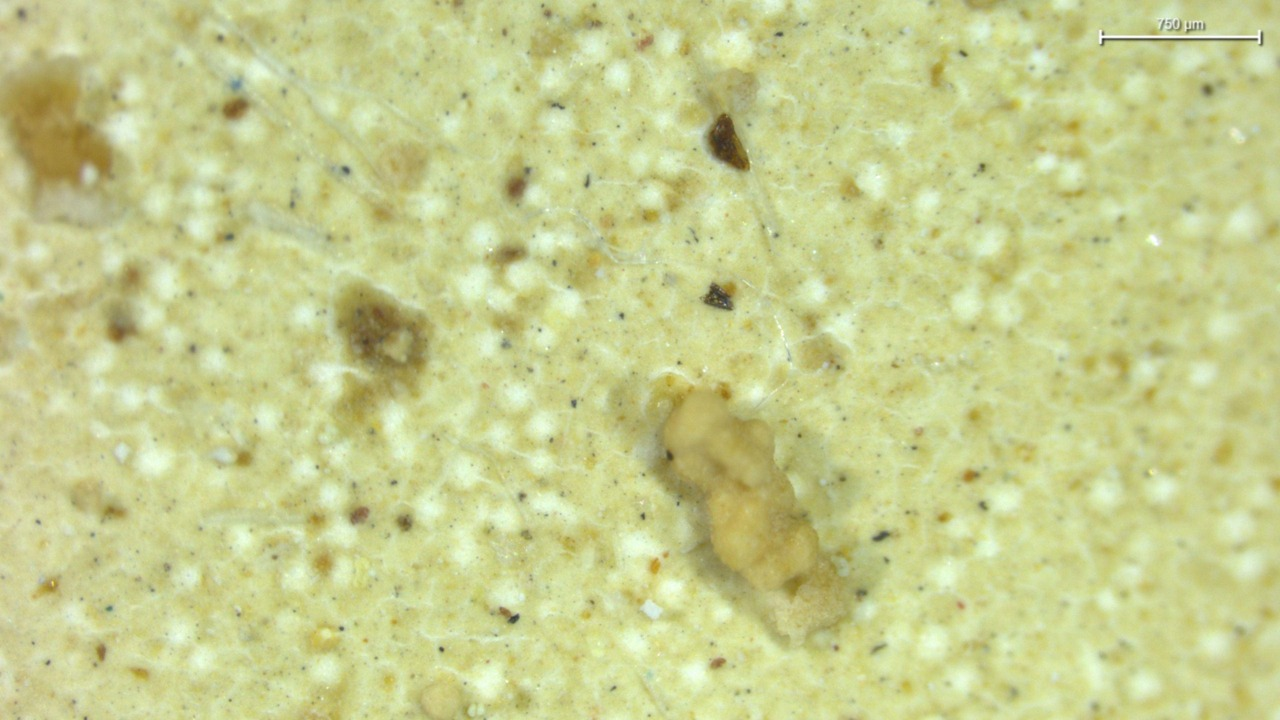microplastic_fragment: (657, 375, 850, 639)
